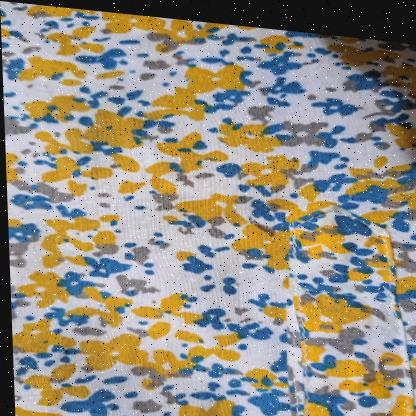spot: (245, 206, 289, 232)
